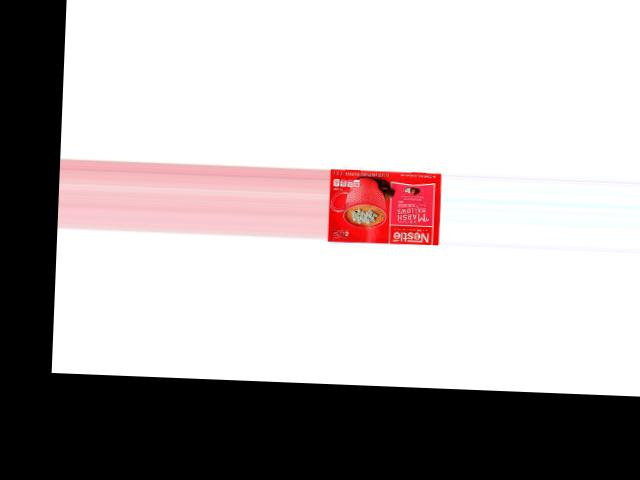chocolate: (326, 164, 438, 243)
